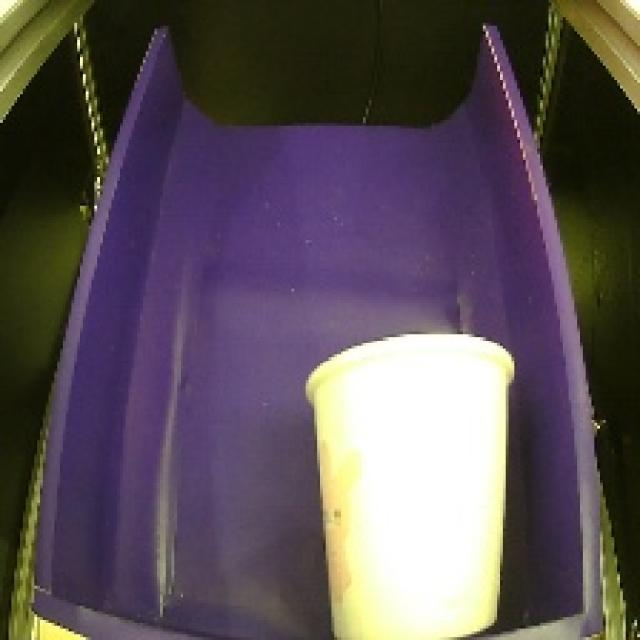cups: (286, 324, 522, 640)
